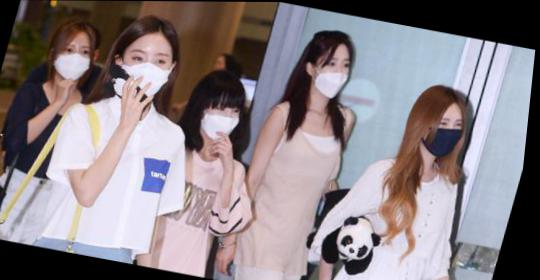OK: (112, 41, 183, 107), (194, 92, 252, 145), (424, 109, 478, 159), (50, 35, 103, 84)
WRONG: (309, 52, 362, 102)
